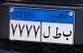7: (33, 24, 41, 39), (17, 23, 25, 37), (10, 23, 18, 37), (25, 24, 32, 38)
Taa: (53, 26, 62, 40)
baa: (62, 29, 73, 41)
laam: (42, 25, 51, 38)
